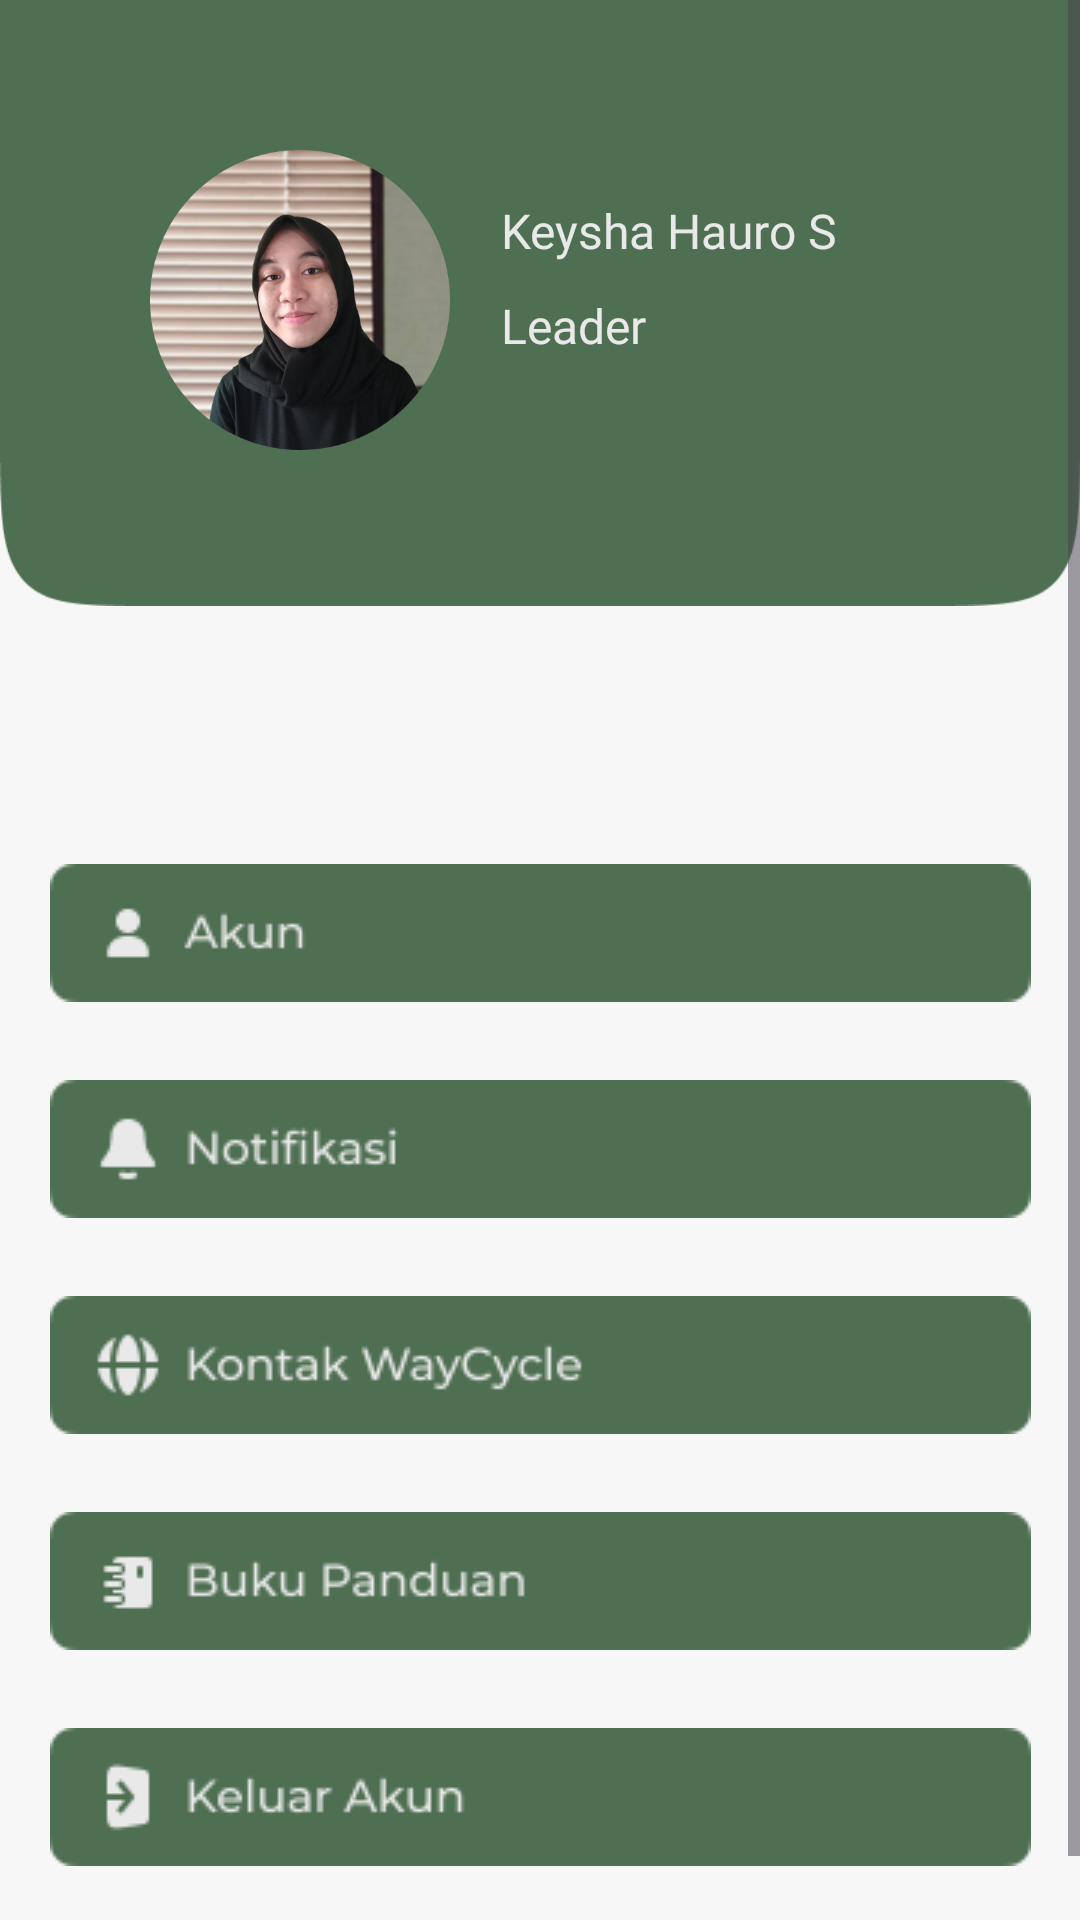

Named icons in this screenshot (1080×1920) and their centers, point (x, y):
profilepicture: point (300, 300)
